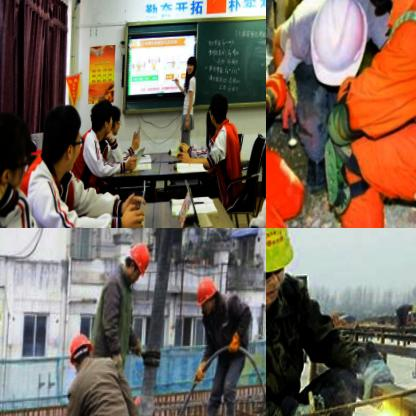head: (42, 105, 86, 177), (0, 107, 31, 209), (91, 100, 116, 139), (208, 95, 230, 135), (105, 106, 122, 136), (186, 58, 196, 77)
helmet: (298, 0, 376, 103), (266, 228, 305, 316), (67, 330, 97, 378), (194, 276, 223, 324), (123, 244, 153, 285)
